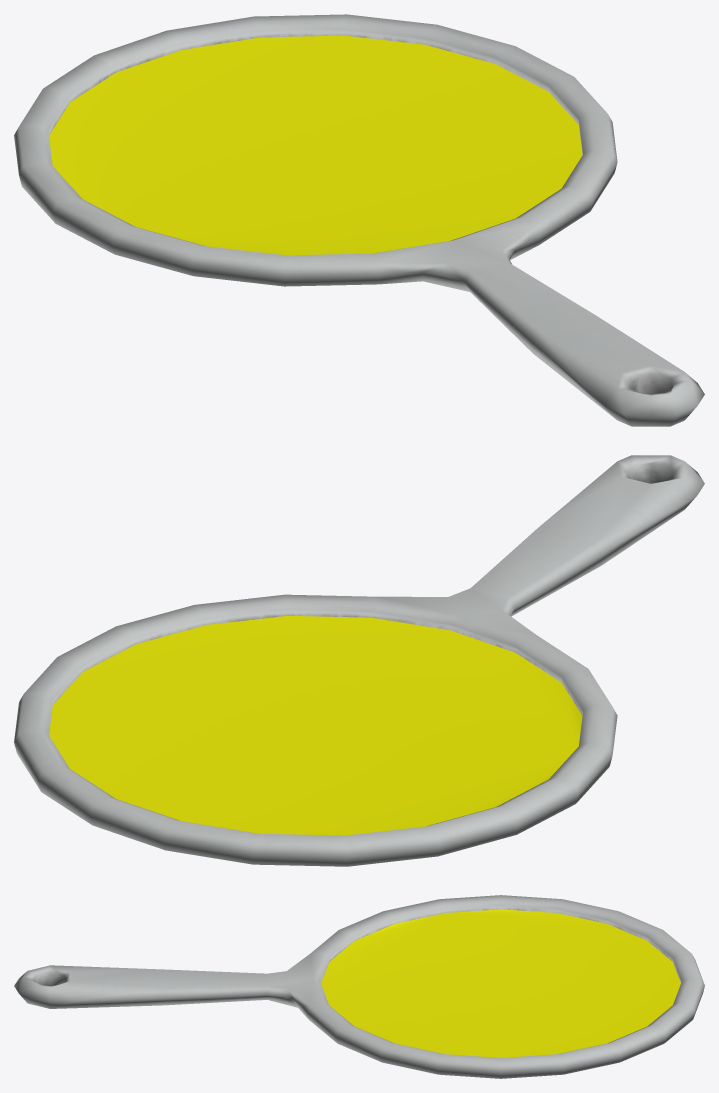
Rendered from SHAVING MIRROR.fbx.
3 renders of one model, top to bottom at view 1: azimuth 30°, elevation 25°; view 2: azimuth 150°, elevation 25°; view 3: azimuth 270°, elevation 25°, orthographic. The views are drawn at different scales.
Visible parts, largest first — view 1: polySurface1; view 2: polySurface1; view 3: polySurface1.
Part boxes in pixels (<box>): polySurface1: <box>14,14,704,426</box>; polySurface1: <box>14,455,704,866</box>; polySurface1: <box>14,895,704,1078</box>.
Bounding box in the file's own units: 226 × 13.19 × 382.
Materials: 2 (1 with a texture image).
